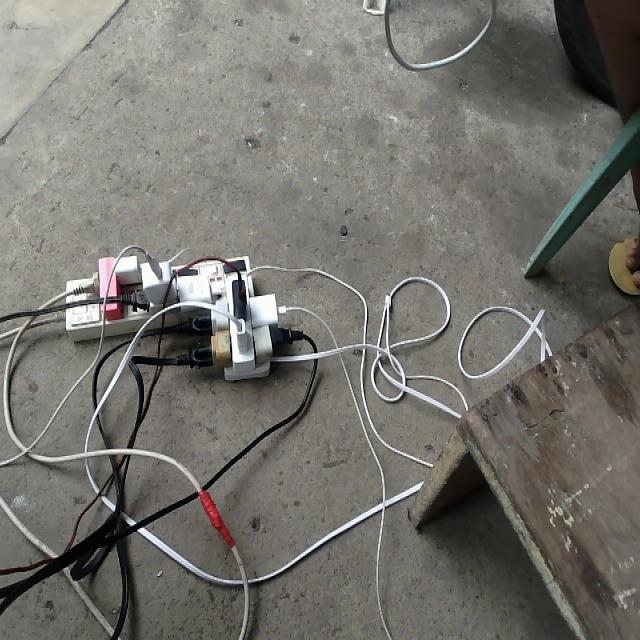-: (62, 240, 295, 381)
